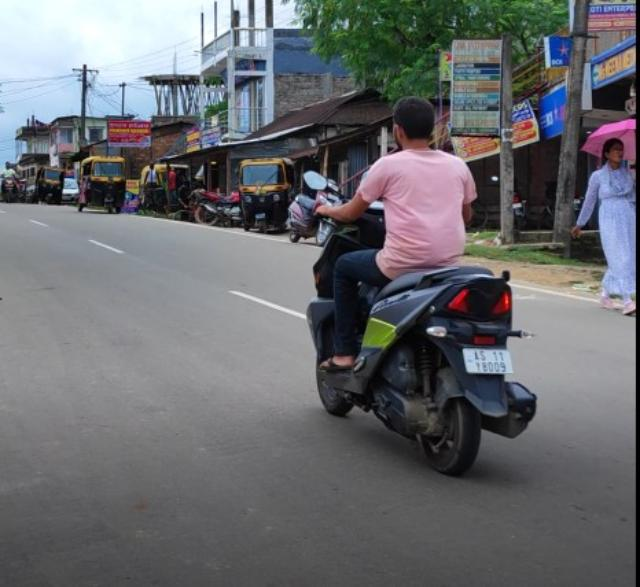licensePlate: (460, 345, 513, 374)
motorcycle: (306, 91, 541, 483)
withoutHelmet: (394, 96, 440, 152)
